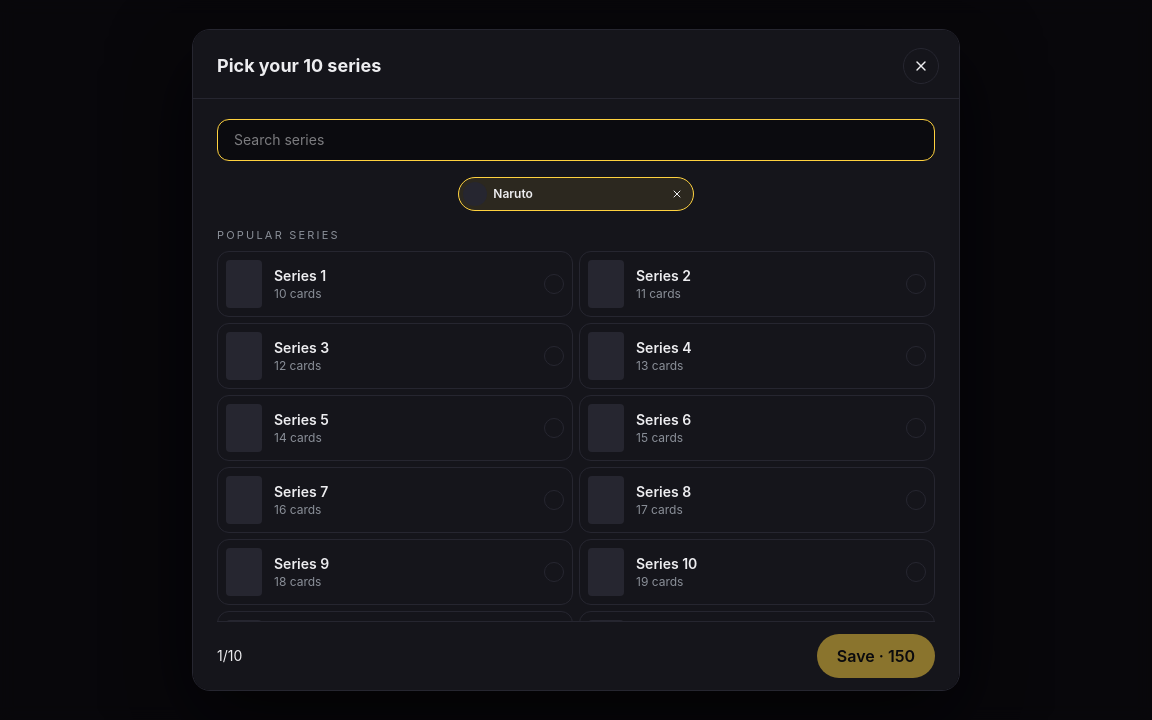
Test: CustomPicker › a pick from outside the suggestions shows as a chip that can be removed
Click the button named "Remove Naruto" at (677, 194), box [667, 184, 687, 204]
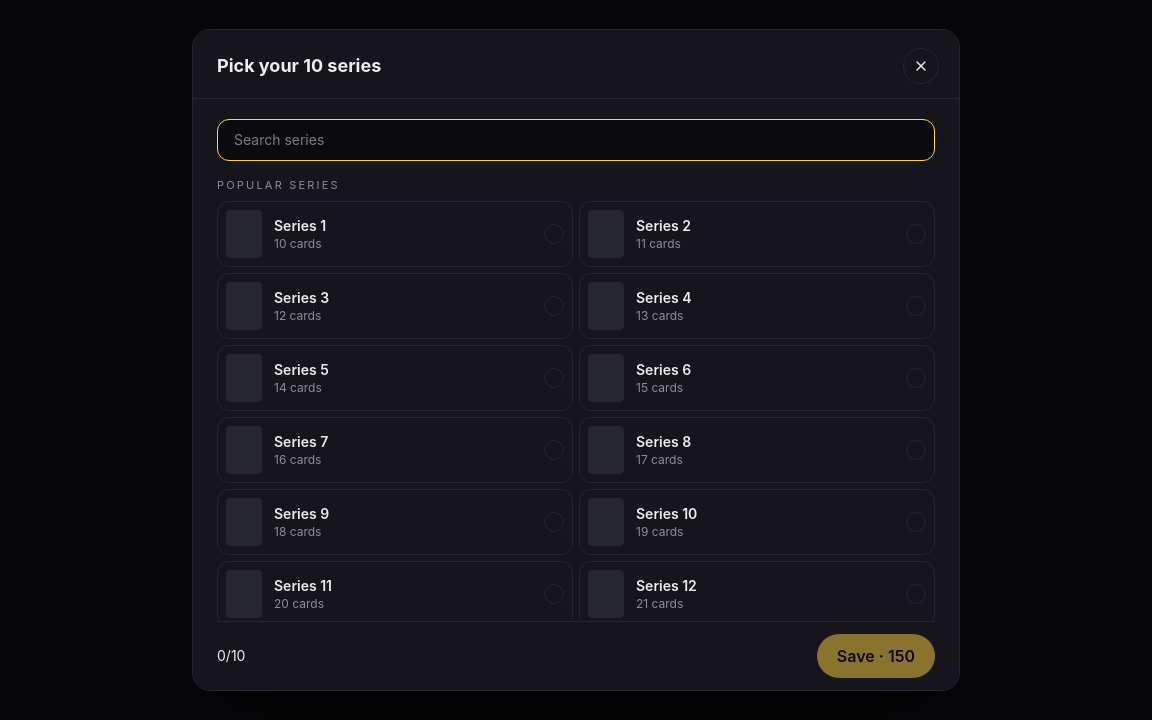
Check: the text "0/10" is shown, box [217, 646, 245, 666]
